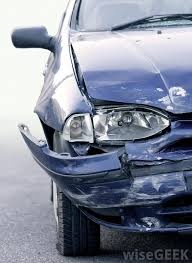Broken-glass: (64, 109, 171, 144)
Dent: (21, 92, 191, 235)
Scratch: (124, 174, 185, 204), (155, 86, 188, 107)
